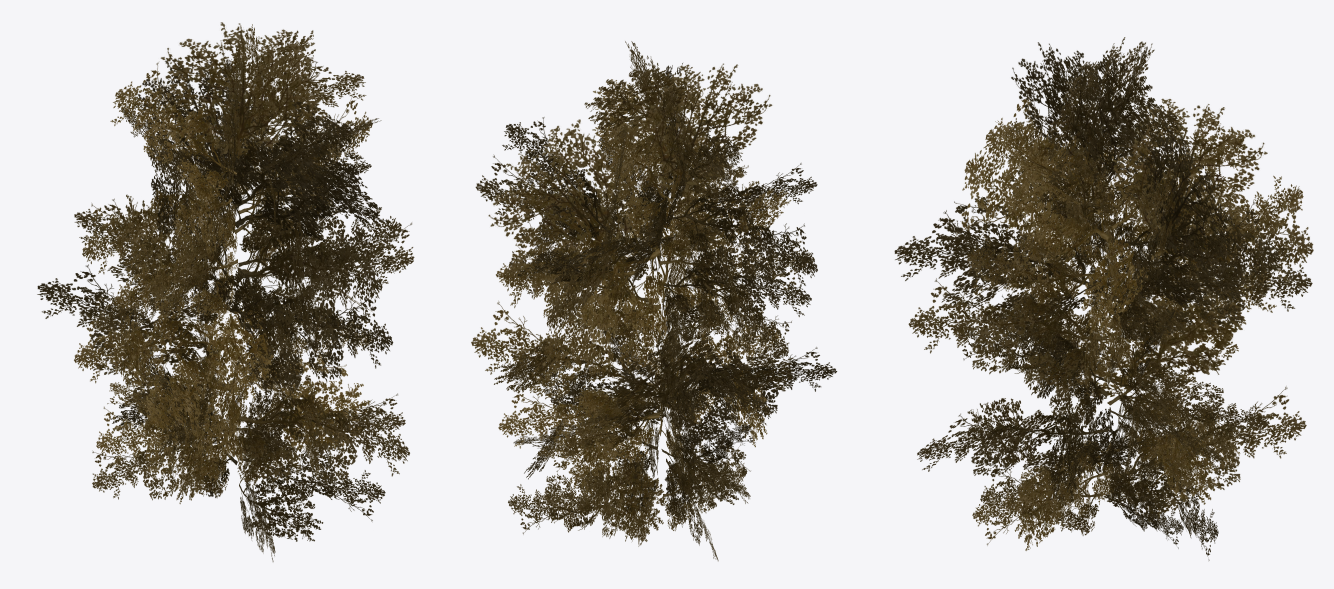
The model's file is distant-tree-24.glb.
3 views of the same model, side by side, from view 1: azimuth 30°, elevation 25°; view 2: azimuth 150°, elevation 25°; view 3: azimuth 270°, elevation 25° (orthographic). The views are drawn at different scales.
Visible parts, largest first — view 1: Tree_Branches_02; view 2: Tree_Branches_02; view 3: Tree_Branches_02.
Part boxes in pixels (box(x1,y1,x2,y2)): Tree_Branches_02: box(37, 22, 414, 561); Tree_Branches_02: box(471, 41, 836, 561); Tree_Branches_02: box(894, 37, 1313, 560).
Size of the model in its own units: 661 by 955 by 766.
Materials: 1 (1 with a texture image).
